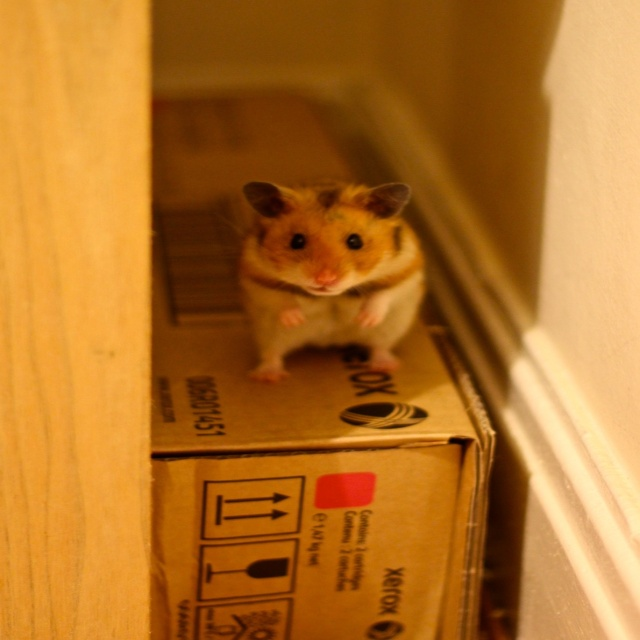Hamster: (218, 181, 426, 380)
